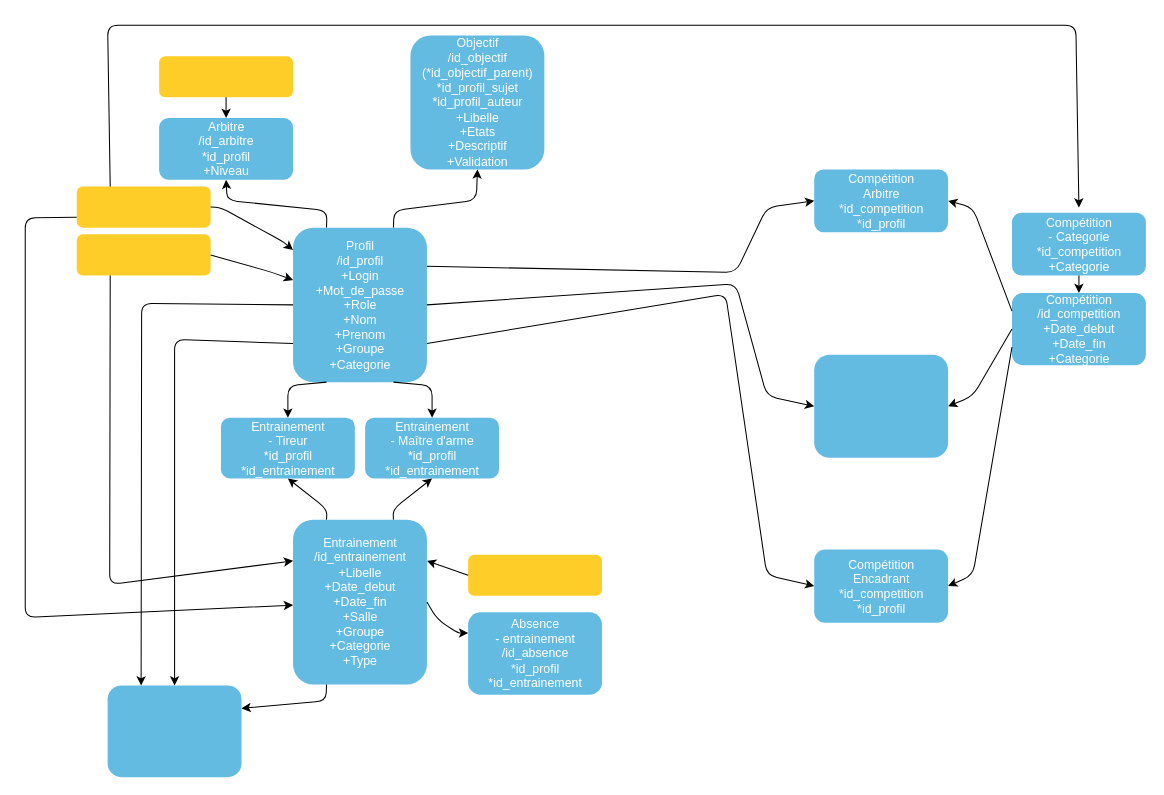
Image size: 1164x795. Some labels were removed from this diagram. Here are the shapes that lost their labels. From the top down, the box of each, then its label:
(159, 56, 293, 97): Arbitre - Niveau
(76, 186, 210, 227): Profil - Categorie
(76, 234, 210, 275): Tireur - Groupe
(814, 354, 948, 457): Compétition Compétiteur *id_competition *id_profil +Placement
(468, 554, 602, 595): Entrainement- Type
(107, 685, 241, 777): Leçon /id_lesson *id_entrainement +Texte_tireur +Texte_maitre
